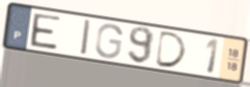1: (204, 37, 221, 76)
9: (127, 26, 156, 67)
D: (153, 29, 189, 70)
E: (29, 12, 63, 52)
G: (93, 22, 125, 61)
I: (79, 18, 93, 58)
